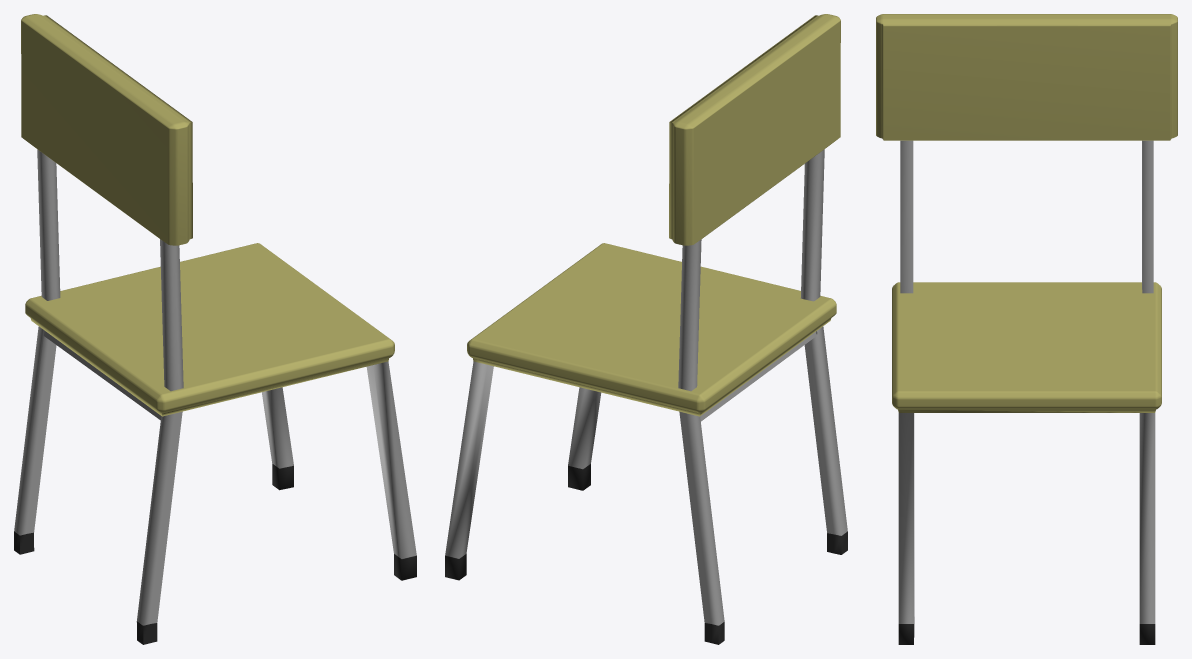
The model's file is Counseller_Chair.fbx.
3 renders of one model, left to right at view 1: azimuth 30°, elevation 25°; view 2: azimuth 150°, elevation 25°; view 3: azimuth 270°, elevation 25°, orthographic.
Parts seen in each view (by area): view 1: pCube1, pCube2; view 2: pCube1, pCube2; view 3: pCube1, pCube2.
Part boxes in pixels (<box>): pCube1: <box>25,243,416,580</box>; pCube2: <box>14,14,192,644</box>; pCube1: <box>445,243,836,580</box>; pCube2: <box>669,14,847,644</box>; pCube1: <box>892,282,1161,644</box>; pCube2: <box>876,14,1177,293</box>.
Size of the model in its own units: 5.57 by 10.19 by 5.44.
